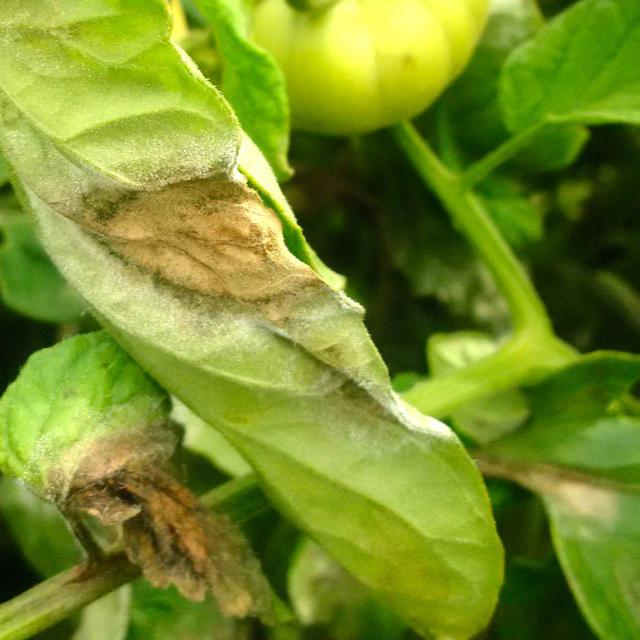Tomato leaf late blight: (0, 0, 533, 640), (0, 329, 299, 630)
